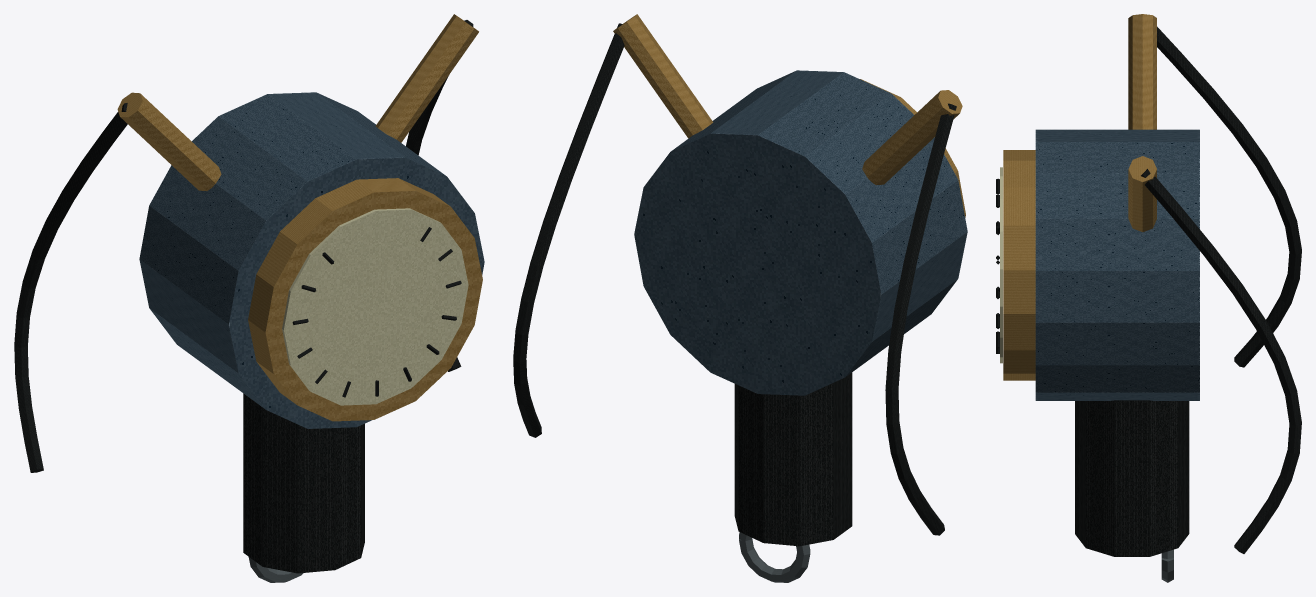
Rendered from blender_barometric_probe_1.glb.
3 views of the same model, side by side, from view 1: azimuth 30°, elevation 25°; view 2: azimuth 150°, elevation 25°; view 3: azimuth 270°, elevation 25° (orthographic). The views are drawn at different scales.
Visible parts, largest first — view 1: blender_barometric_probe_1; view 2: blender_barometric_probe_1; view 3: blender_barometric_probe_1.
Boxes of the visible parts, bbox=[...] form: blender_barometric_probe_1: bbox=[14, 14, 484, 582]; blender_barometric_probe_1: bbox=[513, 14, 967, 582]; blender_barometric_probe_1: bbox=[996, 14, 1301, 582].
Bounding box in the file's own units: 0.128 × 0.1527 × 0.0856.
5 materials, 5 textured.
